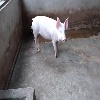heo: (29, 13, 71, 59)
